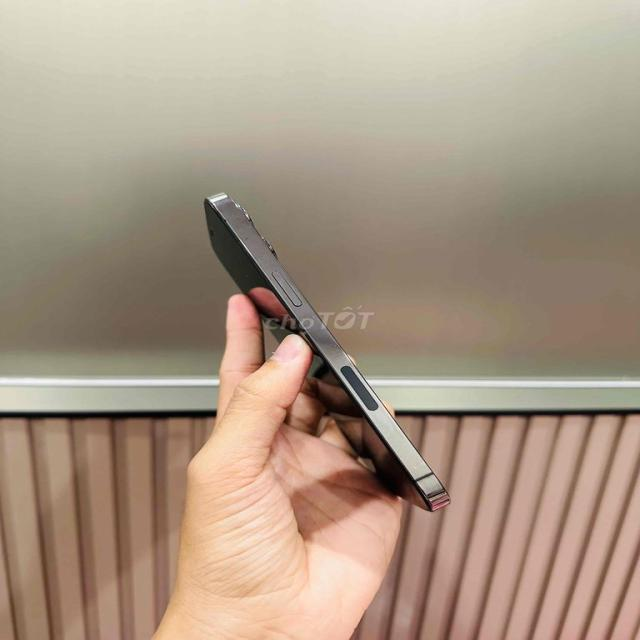gen_12_13: (190, 176, 455, 516)
